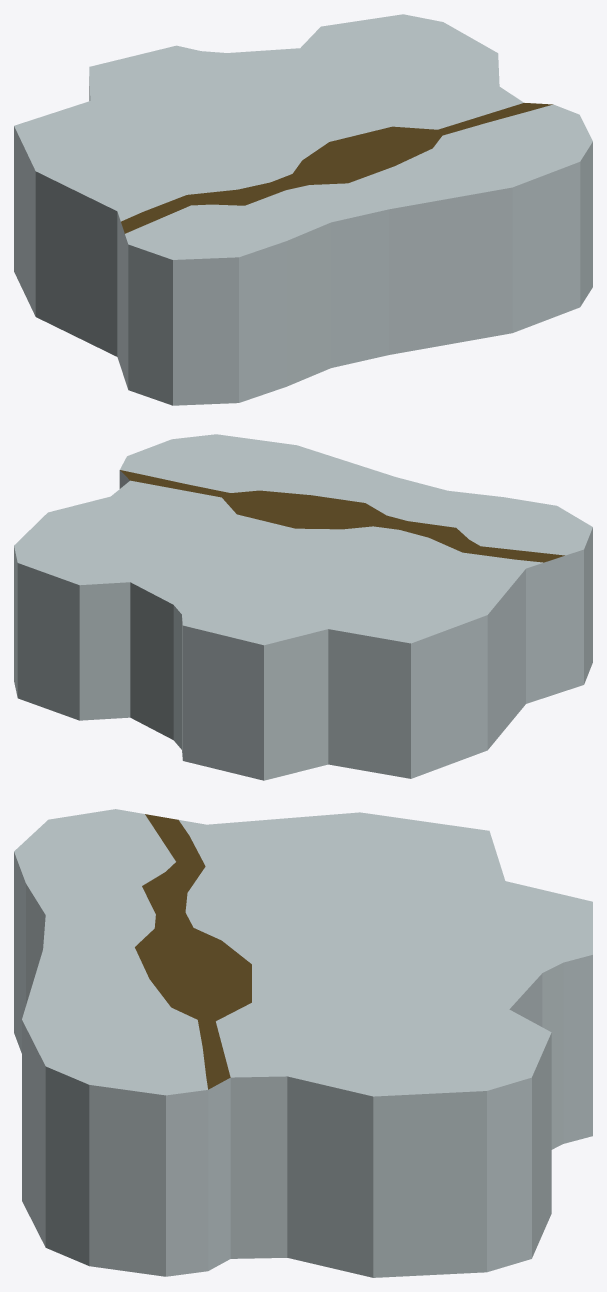
File: terrain.fbx
3 views of the same model, one above another, from view 1: azimuth 30°, elevation 25°; view 2: azimuth 150°, elevation 25°; view 3: azimuth 270°, elevation 25° (orthographic). The views are drawn at different scales.
Visible parts, largest first — view 1: Cube; view 2: Cube; view 3: Cube.
Boxes of the visible parts, x1,y1,x2,y2 form: Cube: (14, 14, 592, 405); Cube: (14, 434, 592, 780); Cube: (14, 809, 592, 1277).
Bounding box in the file's own units: 1345 × 396 × 1145.
